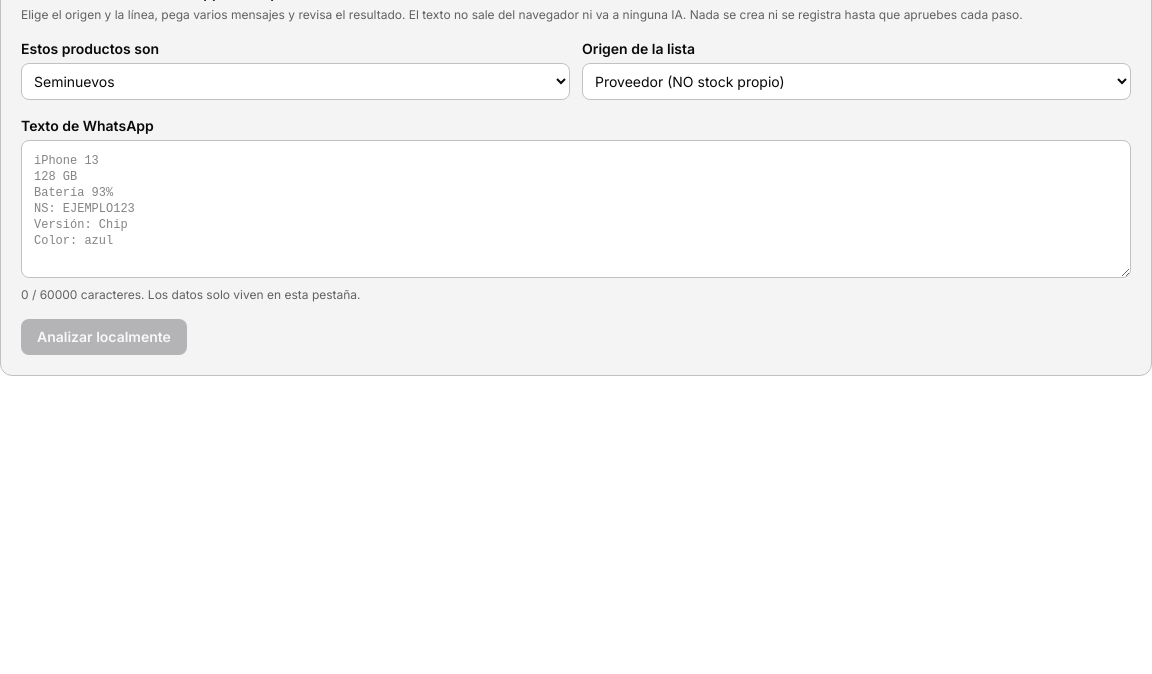
flujo en pantalla › sin proveedor elegido no se pide nada al servidor
The image size is (1152, 674).
Select "Nuevos" in the dropdown named "Línea declarada". click: (296, 82)
box: x1=21 y1=63 x2=570 y2=100
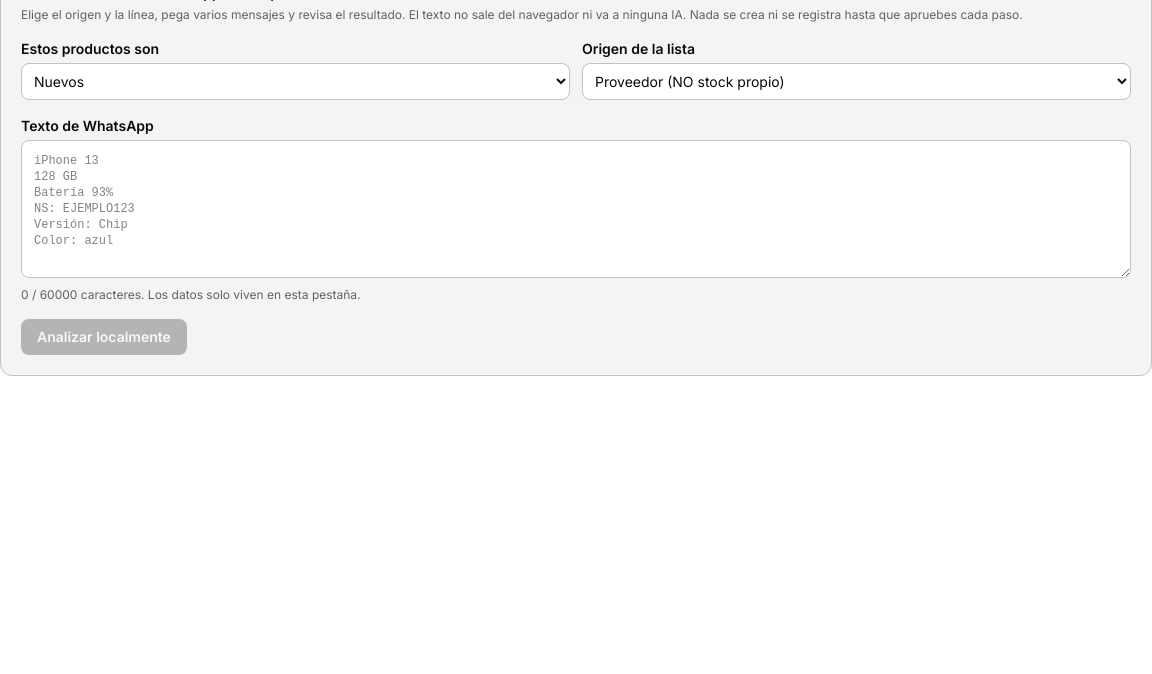
Select "Proveedor (NO stock propio)" in the dropdown named "Origen declarado". click: (856, 82)
box: x1=582 y1=63 x2=1131 y2=100
Replace the text in the text box named "Texto para reconocer" with "IPH 15 128 2300 negro". click: (576, 209)
box: x1=21 y1=140 x2=1131 y2=278
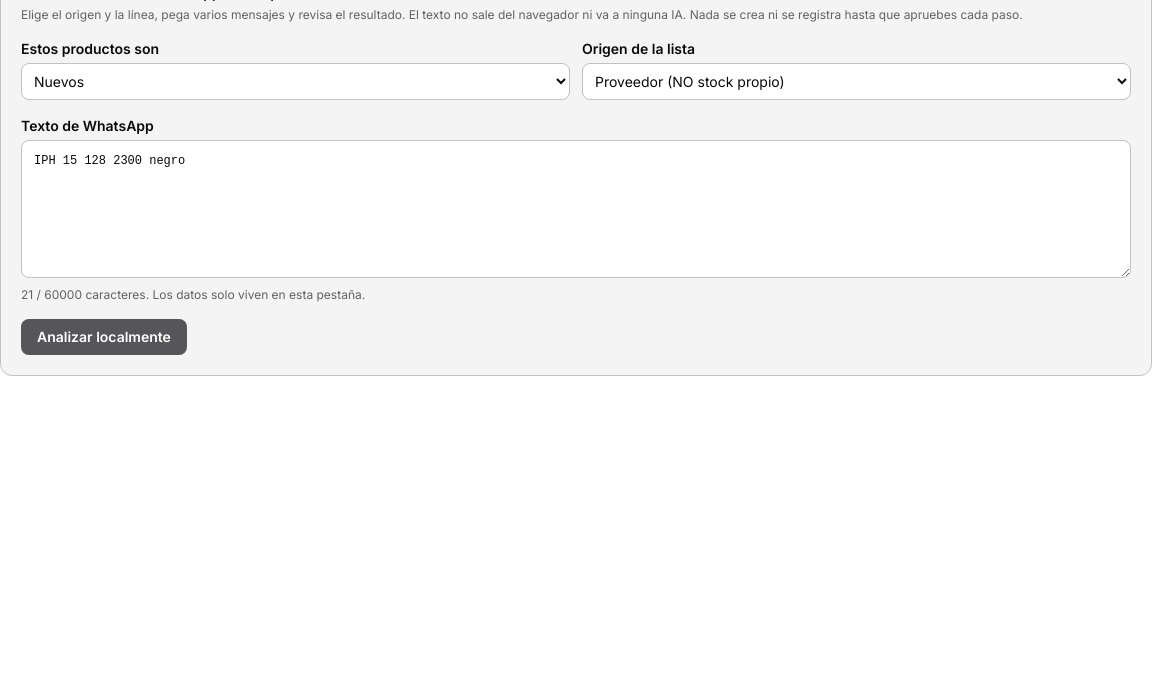
Click the button "Analizar localmente". click: (104, 337)
box: x1=21 y1=319 x2=187 y2=355
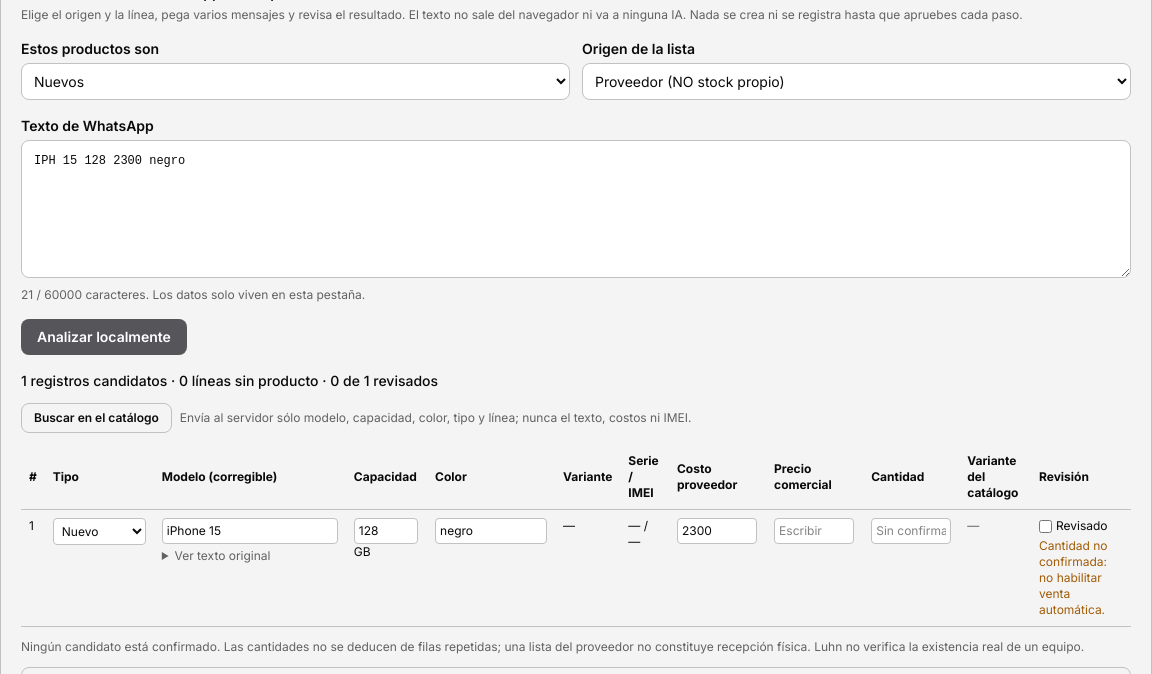
Click the button "Buscar en el catálogo". click: (96, 418)
box: x1=21 y1=403 x2=172 y2=433
(page scrolled)
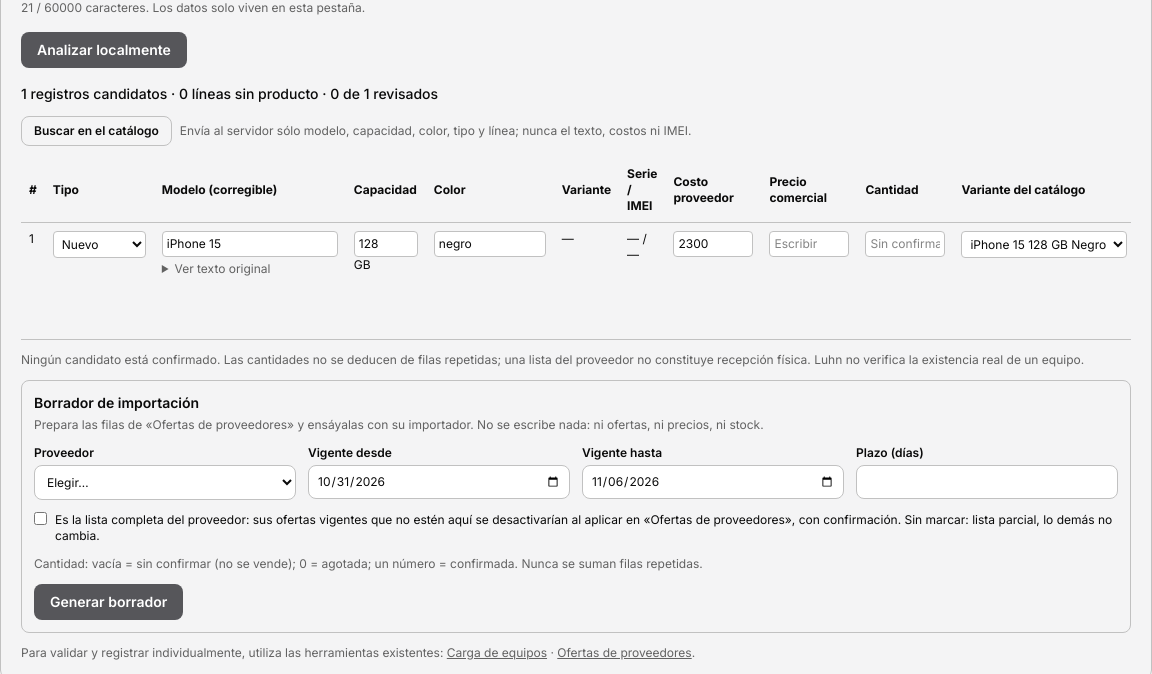
Click the button "Generar borrador". click: (109, 602)
box: x1=34 y1=584 x2=183 y2=620
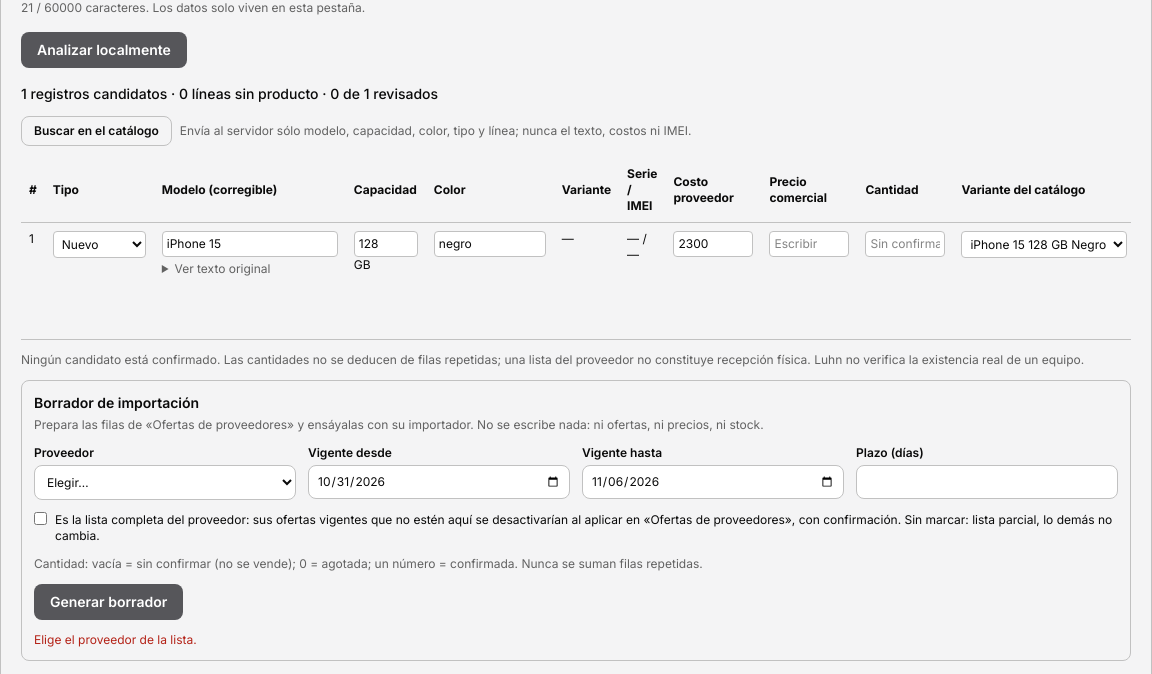
Now the text "Elige el proveedor de la lista." is shown, box x1=34 y1=632 x2=197 y2=647
